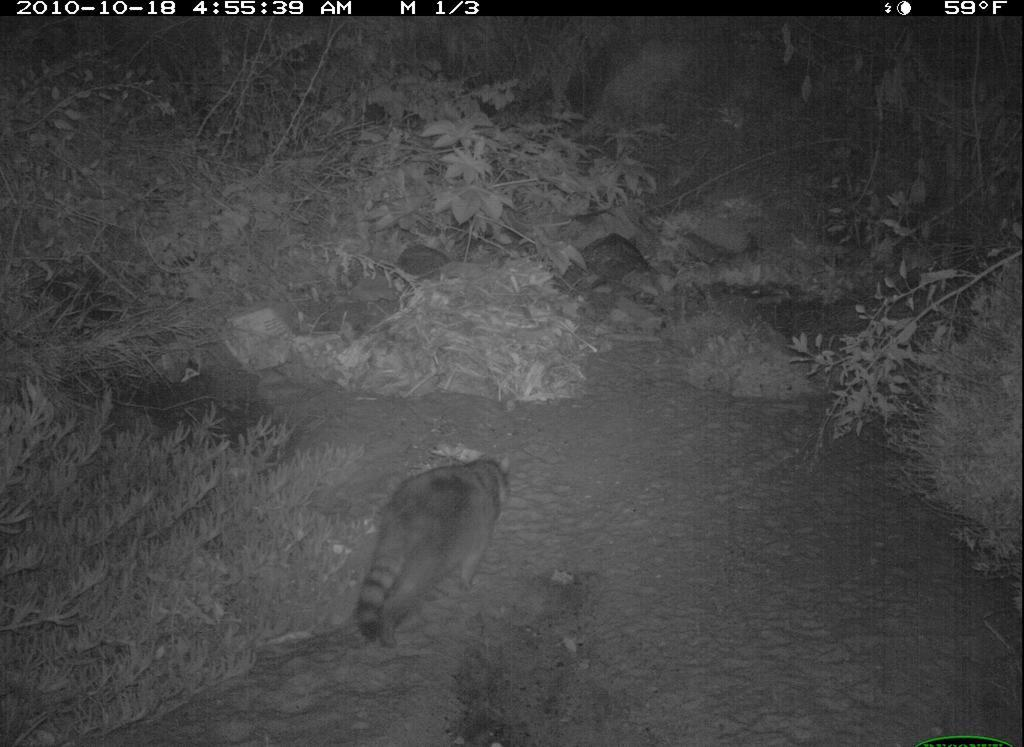raccoon: (353, 440, 521, 655)
